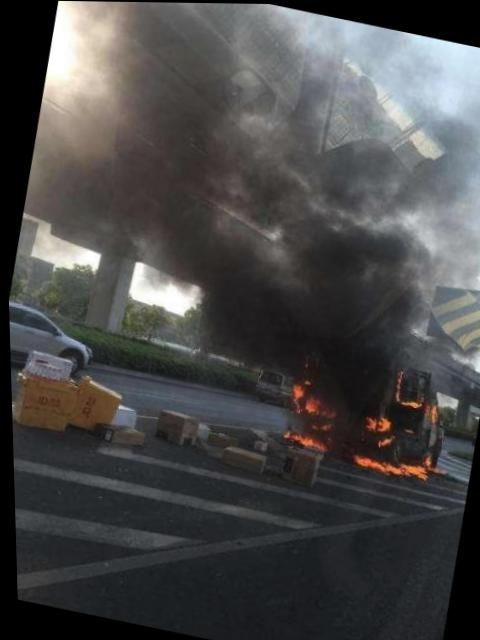fire: (348, 450, 421, 477), (277, 430, 324, 451), (359, 413, 387, 431), (286, 377, 303, 402), (299, 392, 316, 412), (393, 394, 418, 407), (389, 365, 399, 393), (422, 401, 436, 417), (374, 434, 383, 443)
